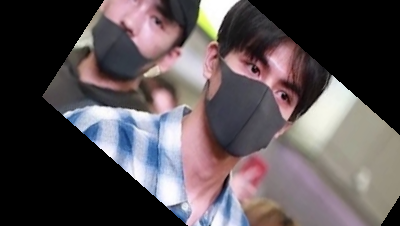mask_weared_incorrect: (92, 1, 204, 85)
